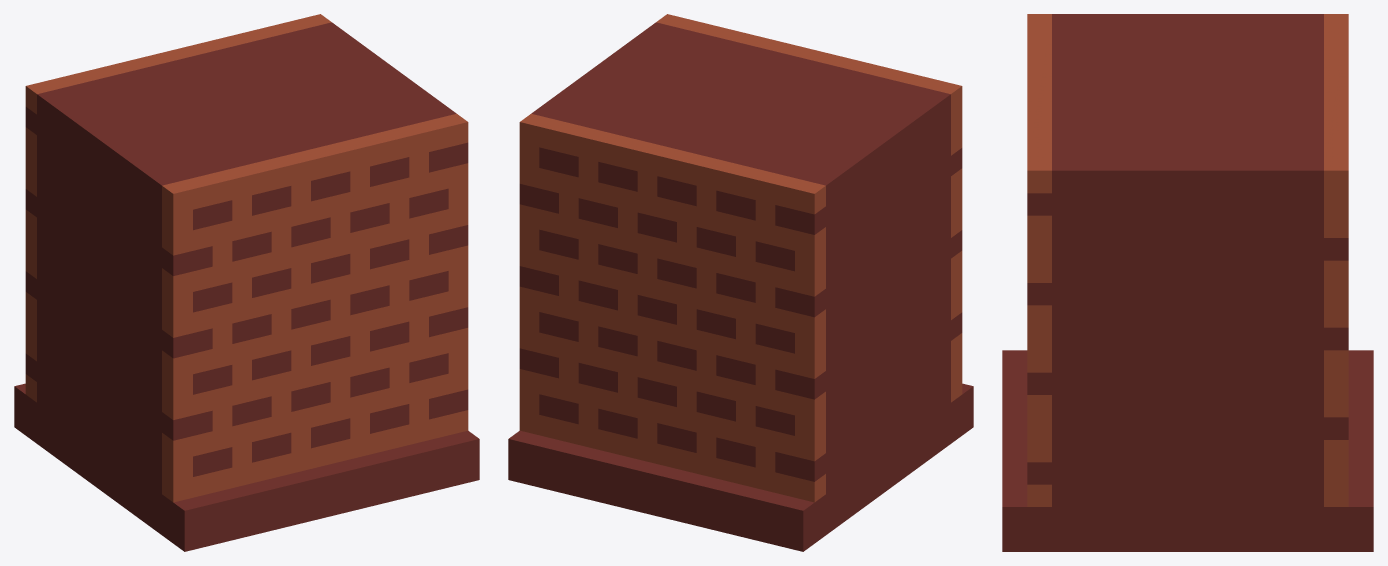
The model's file is dungeon_b_b_inner_wall_segment_a.obj.
3 views of the same model, side by side, from view 1: azimuth 30°, elevation 25°; view 2: azimuth 150°, elevation 25°; view 3: azimuth 270°, elevation 25° (orthographic). The views are drawn at different scales.
Bounding box in the file's own units: 1.5 × 1.7 × 1.5.
Materials: 1 (1 with a texture image).
